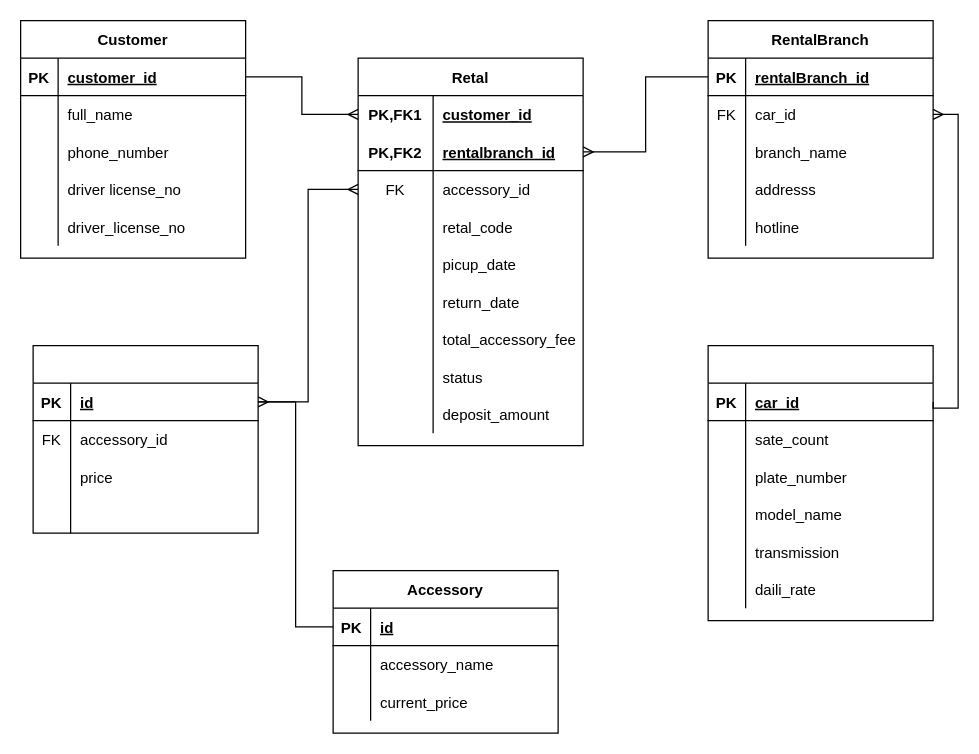
Image size: 979x754. Some labels were removed from this diagram. Each missing label, with the box of its shape:
Accessory_price: (32, 344, 258, 533)
Cars: (707, 344, 933, 621)
